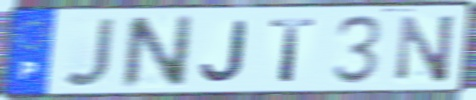3: (330, 13, 385, 86)
J: (61, 16, 119, 90), (198, 18, 251, 84)
N: (120, 13, 197, 91), (395, 12, 459, 85)
T: (267, 16, 319, 84)
